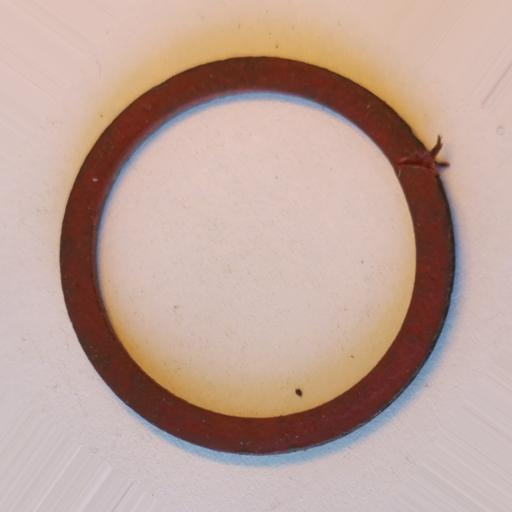defect: (396, 134, 449, 175)
